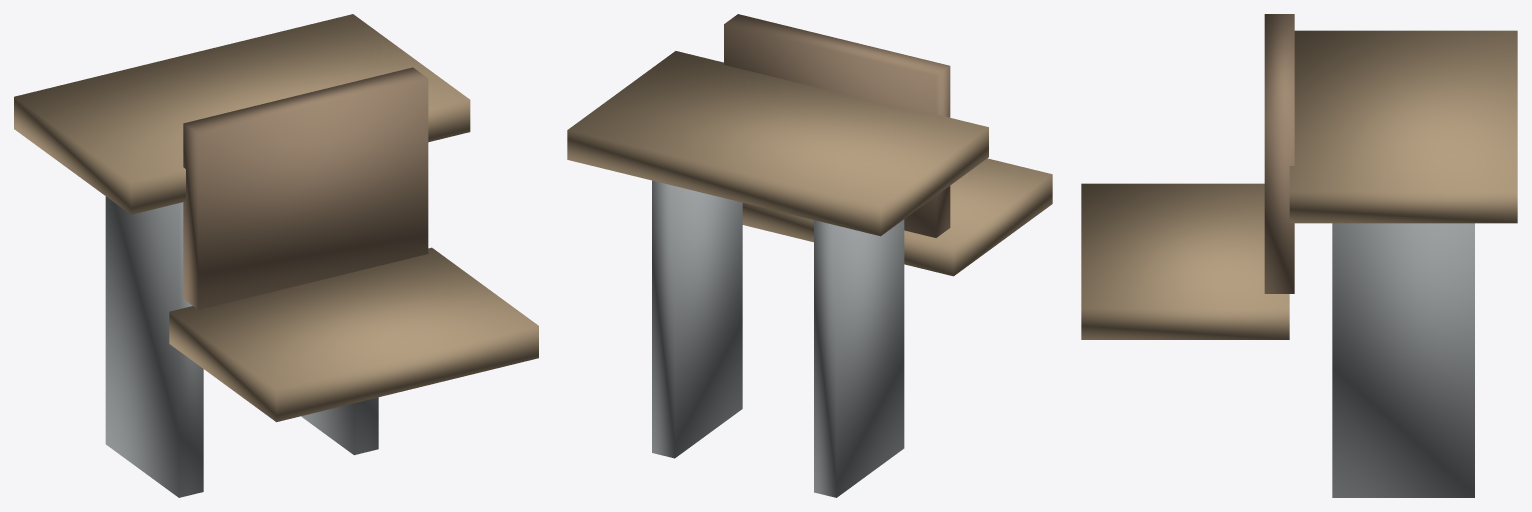
File: classroom_desk__wide.glb
3 views of the same model, side by side, from view 1: azimuth 30°, elevation 25°; view 2: azimuth 150°, elevation 25°; view 3: azimuth 270°, elevation 25° (orthographic). The views are drawn at different scales.
Parts seen in each view (by area): view 1: world; view 2: world; view 3: world.
Boxes of the visible parts, bbox=[...] form: world: bbox=[14, 14, 538, 497]; world: bbox=[567, 14, 1052, 497]; world: bbox=[1081, 14, 1517, 497].
Size of the model in its own units: 0.7688 by 0.85 by 0.88.
